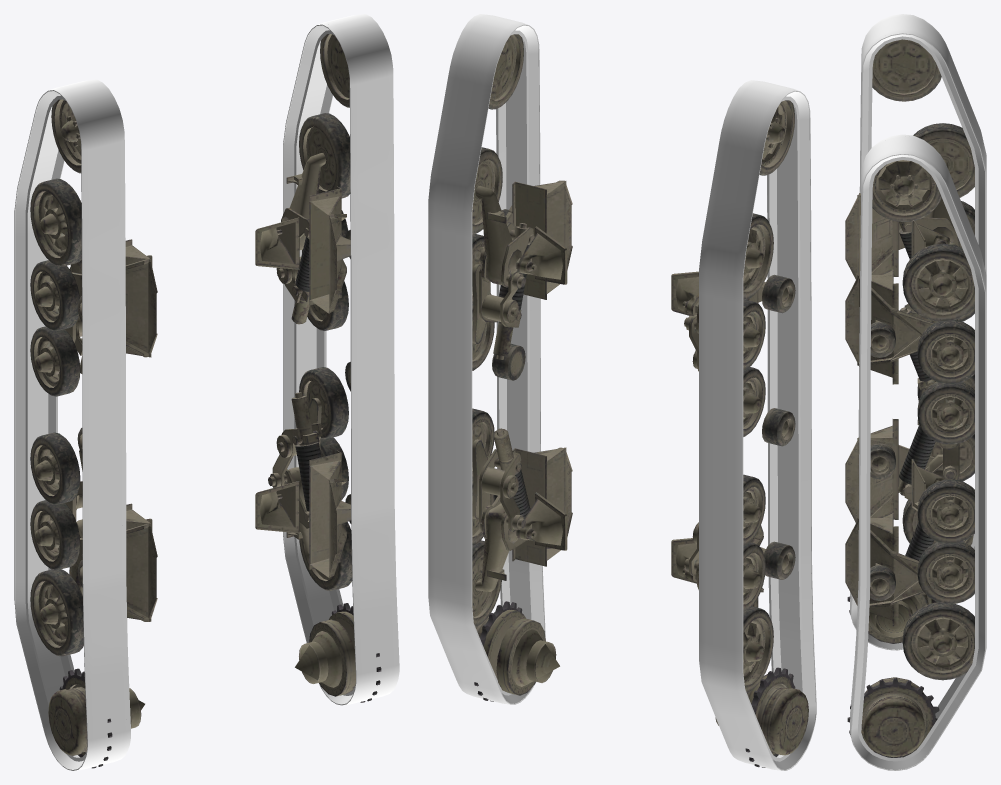
The model's file is Chassis.glb.
The picture shows the model from 3 angles, left to right: view 1: azimuth 30°, elevation 25°; view 2: azimuth 150°, elevation 25°; view 3: azimuth 270°, elevation 25°; orthographic projection. The views are drawn at different scales.
Parts seen in each view (by area): view 1: set_1_group_0, set_0_group_0, set_3_group_0, set_2_group_0; view 2: set_1_group_0, set_0_group_0, set_3_group_0, set_2_group_0; view 3: set_3_group_0, set_2_group_0, set_0_group_0, set_1_group_0.
Boxes of the visible parts, box(x1,y1,x2,y2) form: set_1_group_0: box(14, 79, 130, 770); set_0_group_0: box(283, 14, 399, 705); set_3_group_0: box(255, 34, 381, 702); set_2_group_0: box(30, 99, 157, 768); set_1_group_0: box(699, 80, 816, 770); set_0_group_0: box(428, 14, 545, 704); set_3_group_0: box(472, 34, 572, 701); set_2_group_0: box(671, 100, 808, 767); set_3_group_0: box(845, 160, 974, 757); set_2_group_0: box(845, 39, 974, 643); set_0_group_0: box(850, 134, 986, 770); set_1_group_0: box(850, 14, 986, 650).
Bounding box in the file's own units: 2.58 × 5.3 × 1.1.
Materials: 4 (2 with a texture image).
